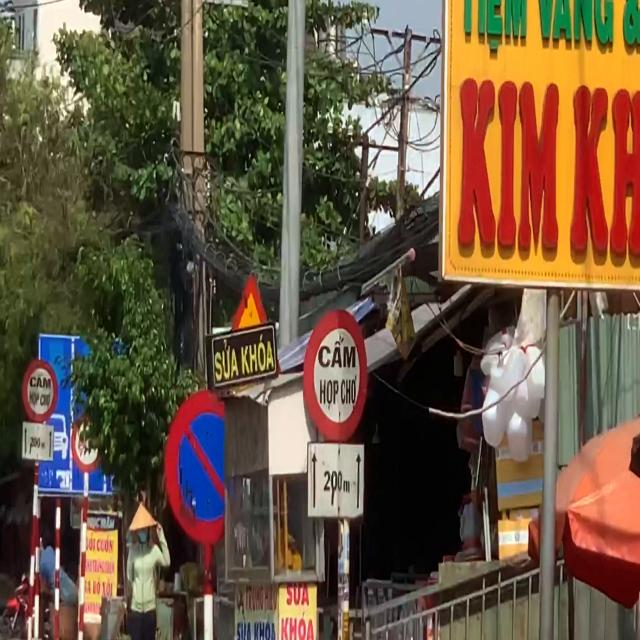Cam do: (163, 390, 253, 545)
